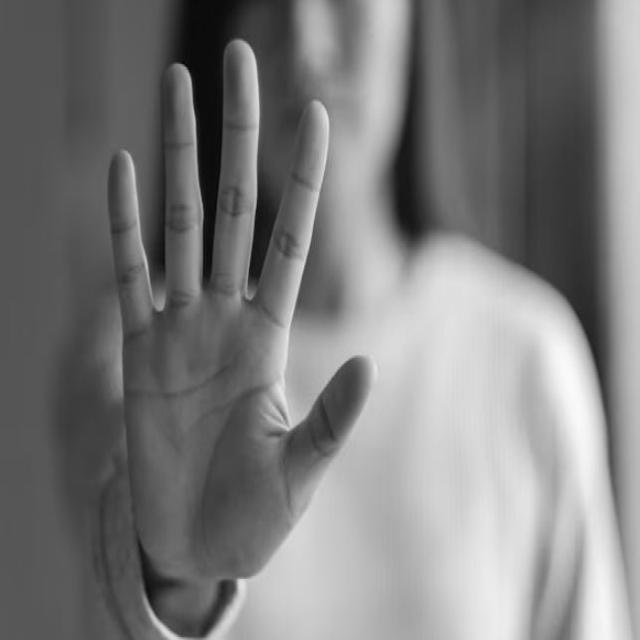stop: (102, 27, 381, 593)
